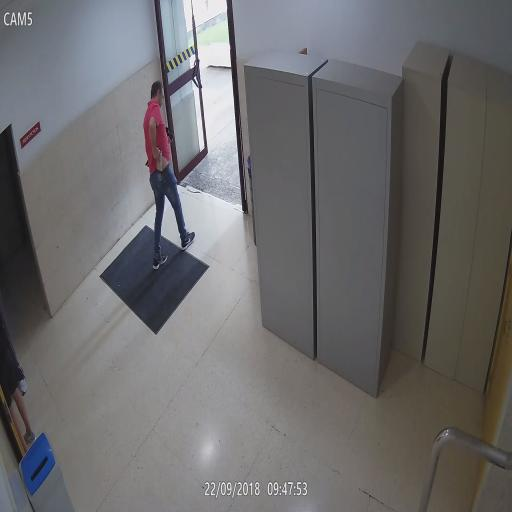Handgun: (154, 148, 164, 171)
